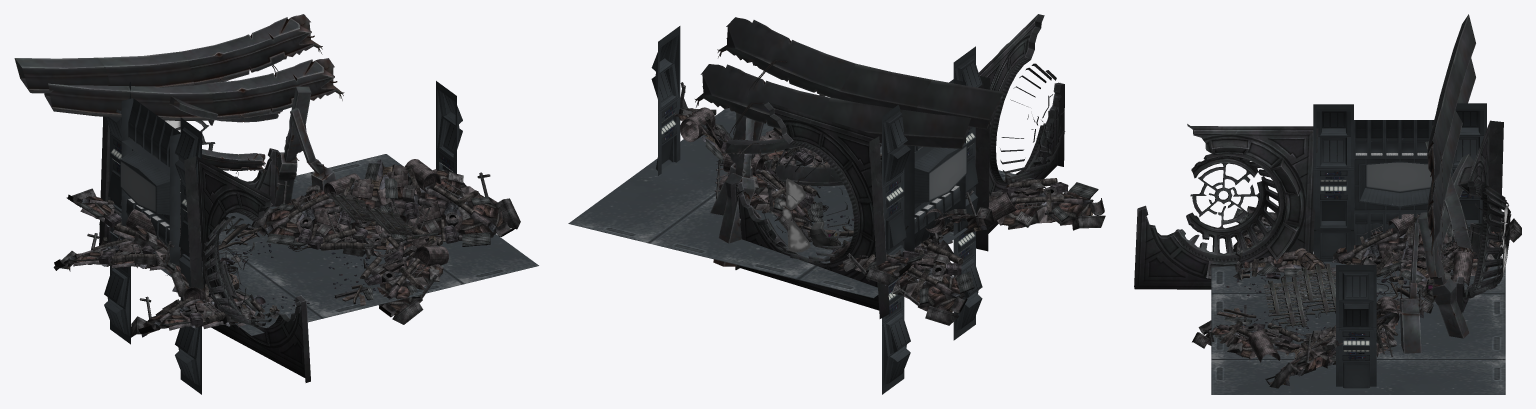
Rendered from env_emp_throne_room_dest_pre.glb.
The picture shows the model from 3 angles, left to right: view 1: azimuth 30°, elevation 25°; view 2: azimuth 150°, elevation 25°; view 3: azimuth 270°, elevation 25°; orthographic projection. The views are drawn at different scales.
Parts seen in each view (by area): view 1: ground_plane_mesh (1), emp_window_dest_mesh (1), emp_debris_03b_mesh (5), emp_debris_03b_mesh (4), emp_debris_01_mesh (1), emp_throne_screen_mesh (2), emp_debris_01_mesh, emp_debris_01_mesh (7), emp_debris_01_mesh (6), emp_debris_01_mesh (2), emp_window_dest_mesh, emp_wall_05_mesh (8) (+13 smaller); view 2: ground_plane_mesh (1), emp_window_dest_mesh, emp_debris_03b_mesh (5), emp_debris_03b_mesh (4), emp_window_dest_mesh (1), emp_throne_screen_mesh (2), emp_debris_01_mesh (6), emp_debris_01_mesh (2), emp_wall_05_mesh (8), emp_wall_05_mesh (5), emp_wall_05_mesh (7), emp_debris_03c_mesh (+13 smaller); view 3: ground_plane_mesh (1), emp_window_dest_mesh (1), emp_throne_screen_mesh (2), emp_window_dest_mesh, emp_wall_05_mesh (4), emp_wall_05_mesh (8), emp_debris_01_mesh (7), emp_debris_03b_mesh (5), emp_debris_01_mesh (4), emp_debris_03c_mesh, emp_debris_03b_mesh (4), emp_wall_05_mesh (5) (+13 smaller).
Part boxes in pixels (left/top/right/bottom): ground_plane_mesh (1): left=99, top=154, right=538, bottom=335; emp_window_dest_mesh (1): left=184, top=156, right=310, bottom=382; emp_debris_03b_mesh (5): left=14, top=14, right=322, bottom=93; emp_debris_03b_mesh (4): left=44, top=58, right=344, bottom=120; emp_debris_01_mesh (1): left=364, top=159, right=520, bottom=246; emp_throne_screen_mesh (2): left=120, top=98, right=180, bottom=265; emp_debris_01_mesh: left=250, top=173, right=402, bottom=246; emp_debris_01_mesh (7): left=359, top=232, right=448, bottom=324; emp_debris_01_mesh (6): left=130, top=283, right=279, bottom=337; emp_debris_01_mesh (2): left=53, top=233, right=180, bottom=271; emp_window_dest_mesh: left=99, top=79, right=279, bottom=245; emp_wall_05_mesh (8): left=436, top=81, right=462, bottom=173; ground_plane_mesh (1): left=568, top=108, right=1035, bottom=298; emp_window_dest_mesh: left=730, top=102, right=889, bottom=318; emp_debris_03b_mesh (5): left=717, top=17, right=1003, bottom=129; emp_debris_03b_mesh (4): left=695, top=64, right=971, bottom=148; emp_window_dest_mesh (1): left=975, top=14, right=1065, bottom=251; emp_throne_screen_mesh (2): left=904, top=79, right=967, bottom=251; emp_debris_01_mesh (6): left=986, top=173, right=1105, bottom=230; emp_debris_01_mesh (2): left=892, top=233, right=974, bottom=325; emp_wall_05_mesh (8): left=651, top=26, right=680, bottom=175; emp_wall_05_mesh (5): left=882, top=105, right=910, bottom=252; emp_wall_05_mesh (7): left=882, top=240, right=910, bottom=394; emp_debris_03c_mesh: left=713, top=113, right=755, bottom=266; ground_plane_mesh (1): left=1211, top=261, right=1505, bottom=394; emp_window_dest_mesh (1): left=1134, top=124, right=1318, bottom=289; emp_throne_screen_mesh (2): left=1353, top=120, right=1433, bottom=245; emp_window_dest_mesh: left=1456, top=120, right=1510, bottom=313; emp_wall_05_mesh (4): left=1313, top=104, right=1353, bottom=230; emp_wall_05_mesh (8): left=1336, top=265, right=1376, bottom=388; emp_debris_01_mesh (7): left=1192, top=317, right=1321, bottom=362; emp_debris_03b_mesh (5): left=1427, top=14, right=1475, bottom=206; emp_debris_01_mesh (4): left=1331, top=214, right=1454, bottom=264; emp_debris_03c_mesh: left=1418, top=212, right=1469, bottom=338; emp_debris_03b_mesh (4): left=1427, top=58, right=1475, bottom=261; emp_wall_05_mesh (5): left=1450, top=103, right=1486, bottom=229.
Size of what is drawn, in the model's own units: 36.64 by 26.13 by 31.41.
Materials: 10 (10 with a texture image).
